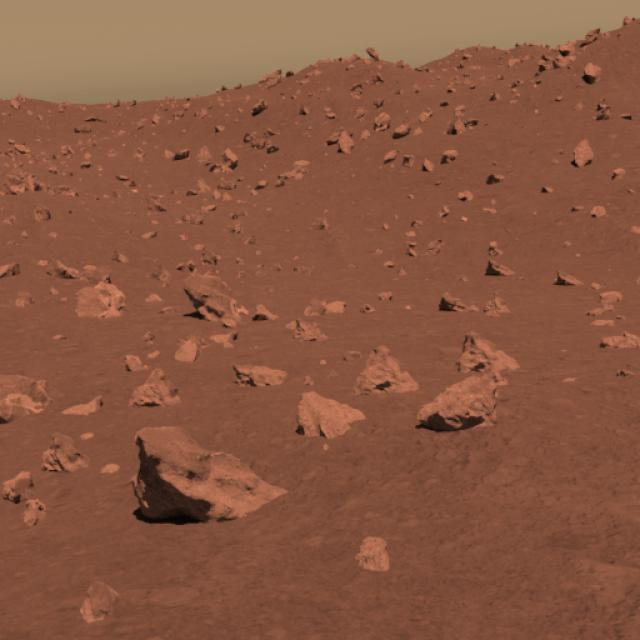rock: (129, 418, 285, 534), (407, 363, 509, 430), (294, 382, 369, 448), (174, 264, 245, 328), (452, 328, 524, 378), (353, 341, 413, 399), (0, 368, 53, 425), (130, 364, 192, 410), (352, 525, 399, 577), (227, 357, 289, 392), (74, 276, 121, 322), (568, 134, 600, 172)
